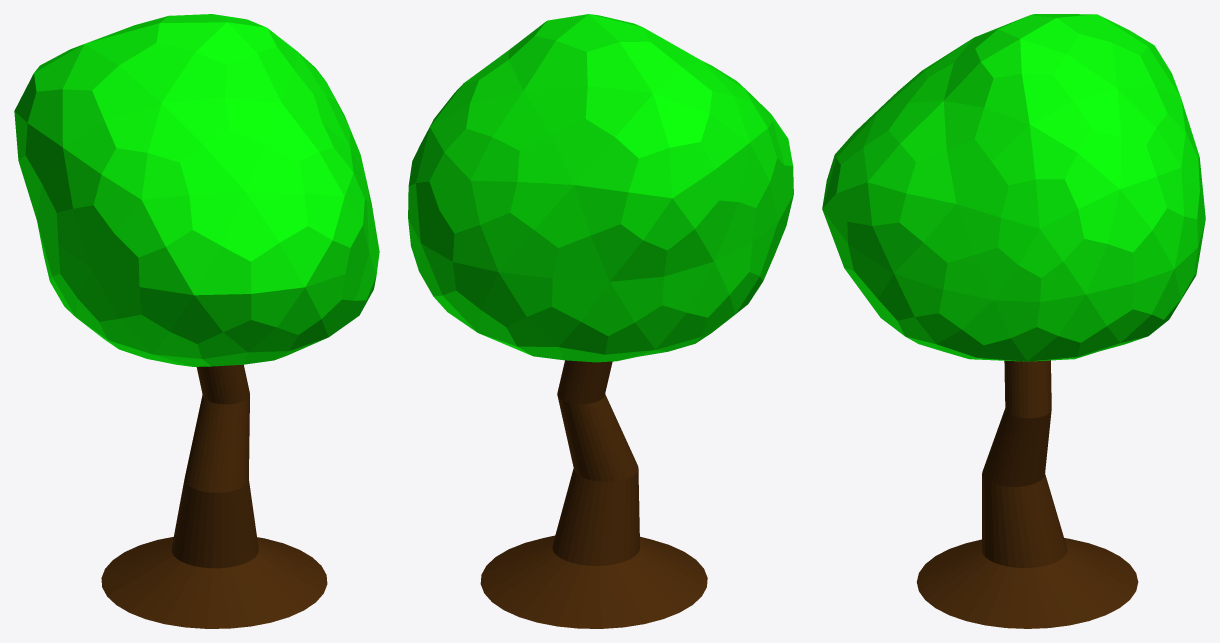
File: MyTree.fbx
The picture shows the model from 3 angles, left to right: view 1: azimuth 30°, elevation 25°; view 2: azimuth 150°, elevation 25°; view 3: azimuth 270°, elevation 25°; orthographic projection. The views are drawn at different scales.
Visible parts, largest first — view 1: Träd_LOD0; view 2: Träd_LOD0; view 3: Träd_LOD0.
Boxes of the visible parts, left/top/right/bottom form: Träd_LOD0: left=14, top=14, right=379, bottom=628; Träd_LOD0: left=408, top=14, right=793, bottom=628; Träd_LOD0: left=822, top=14, right=1205, bottom=628.
Size of what is drawn, in the model's own units: 346 by 545 by 317.
